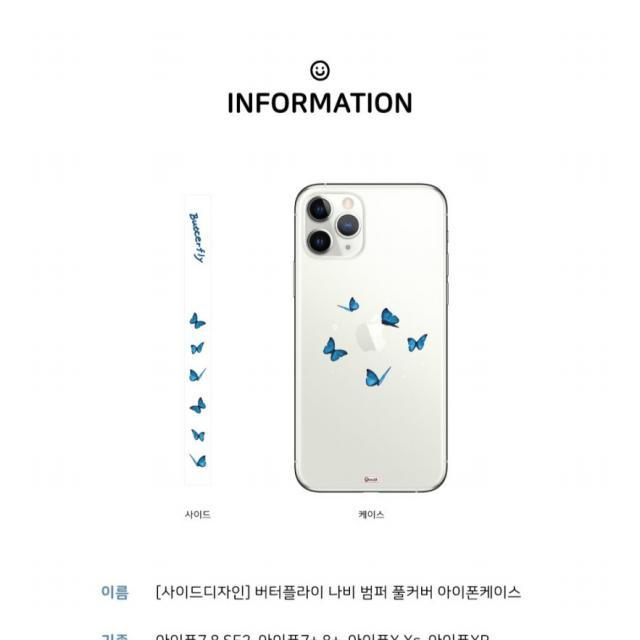phone: (293, 183, 448, 492)
